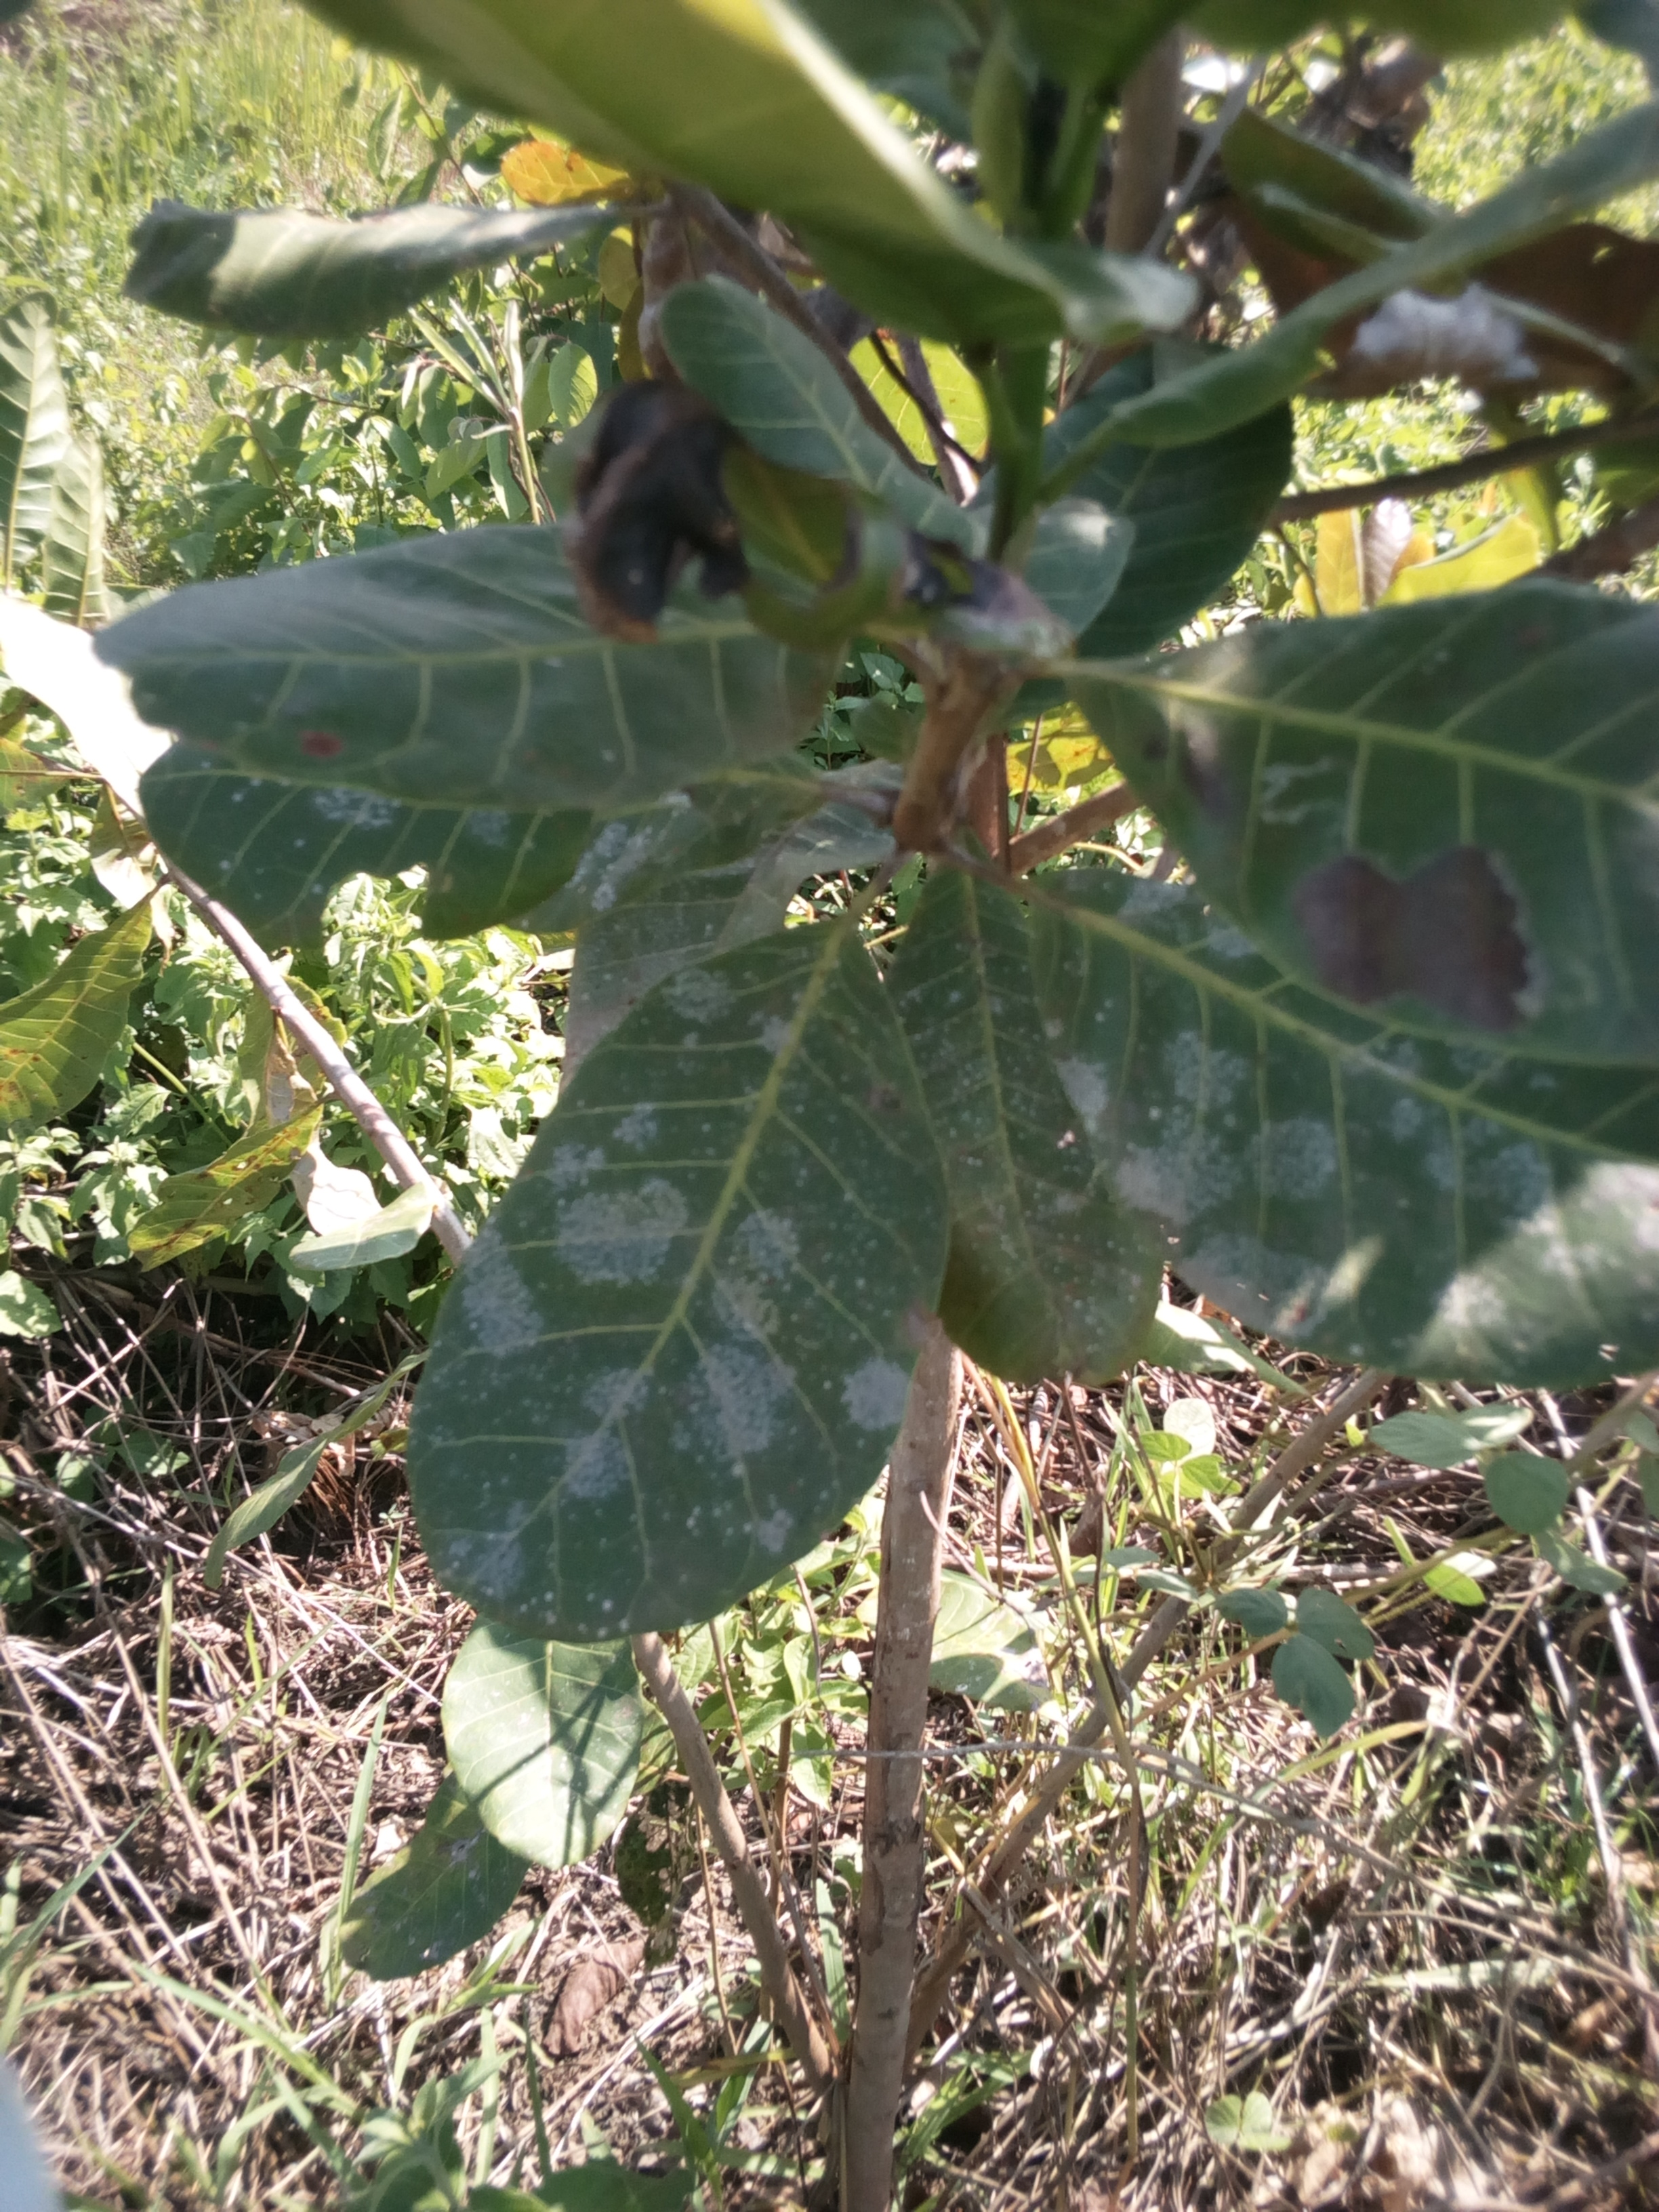Oïdium: (399, 920, 931, 1676), (1033, 862, 1659, 1418), (70, 446, 863, 834), (1073, 575, 1659, 1012), (920, 876, 1220, 1397)
